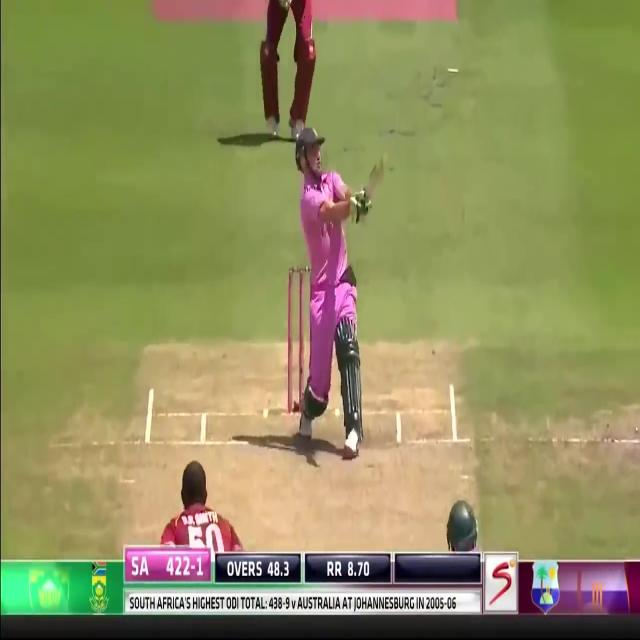Ball: (271, 120, 384, 460)
